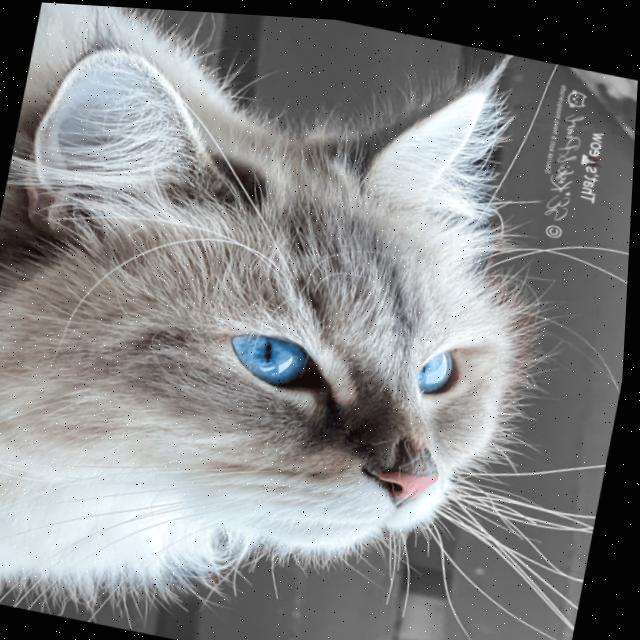Neva Masquerade: (0, 0, 588, 640)
